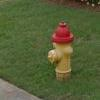Hydrant: (41, 15, 84, 85)
